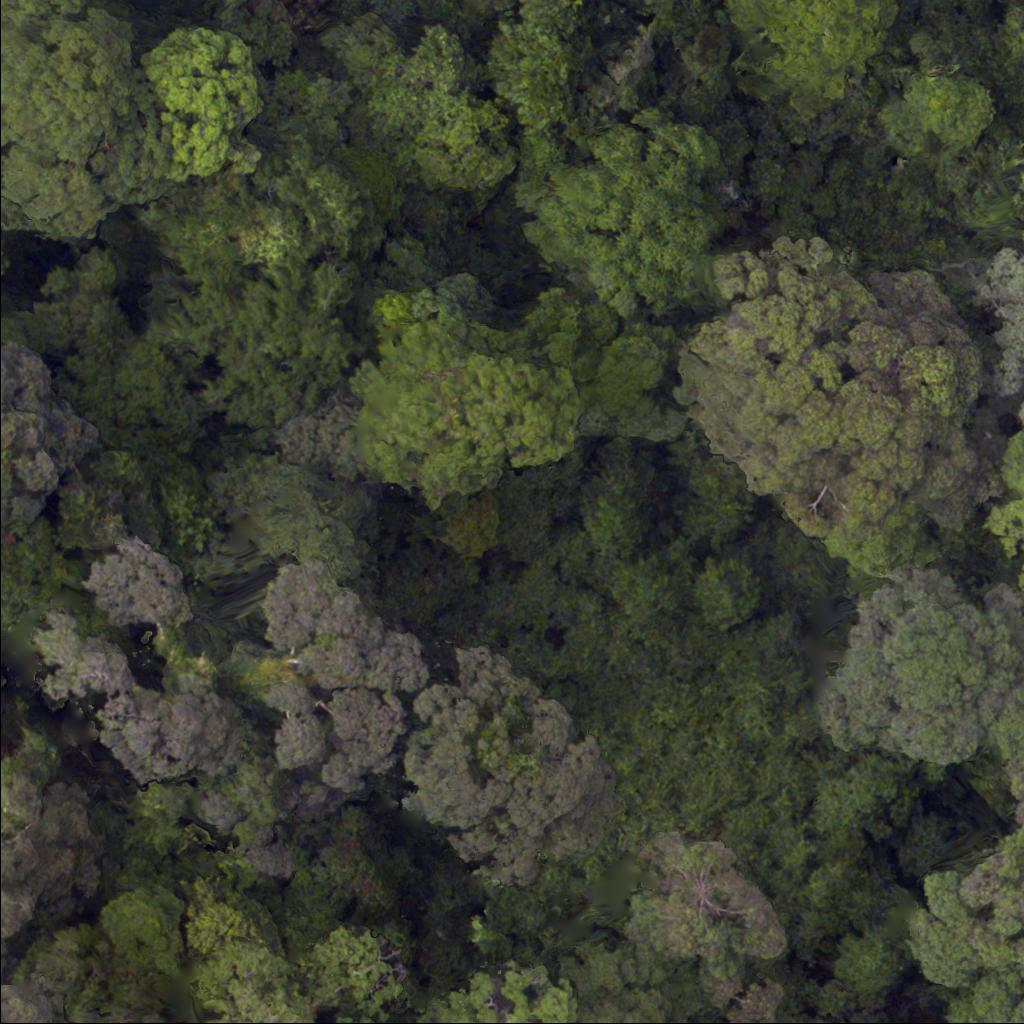crown: (685, 254, 980, 536), (399, 644, 626, 888), (512, 105, 773, 314), (346, 287, 575, 507), (0, 0, 172, 245), (817, 562, 1023, 765), (260, 561, 428, 805), (138, 258, 362, 439), (314, 4, 524, 197), (134, 120, 378, 269), (630, 841, 779, 1023), (199, 449, 373, 576), (727, 0, 902, 125), (519, 292, 685, 423), (481, 0, 604, 152), (147, 26, 255, 181), (885, 67, 1005, 160), (85, 535, 194, 627), (36, 607, 131, 709), (689, 552, 778, 649), (200, 954, 314, 1023), (569, 956, 674, 1023), (440, 970, 566, 1023), (987, 259, 1023, 390), (0, 983, 72, 1023), (370, 0, 429, 28), (998, 496, 1023, 553), (1008, 433, 1023, 492), (337, 1020, 368, 1023)
